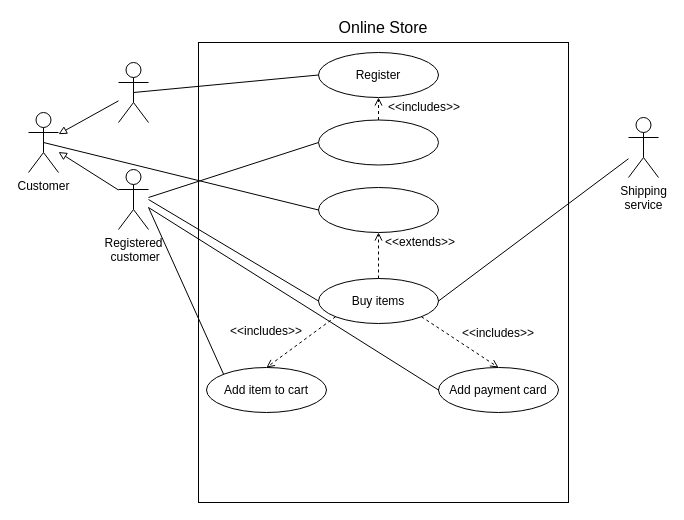
Some shapes in this 684 by 520 pixel diagram are drawn without their labels. Each missing label, with the centre of its shape:
"Authorize" belongs at (378,142).
"Unregistered customer" belongs at (133,92).
"View items" belongs at (378,209).
